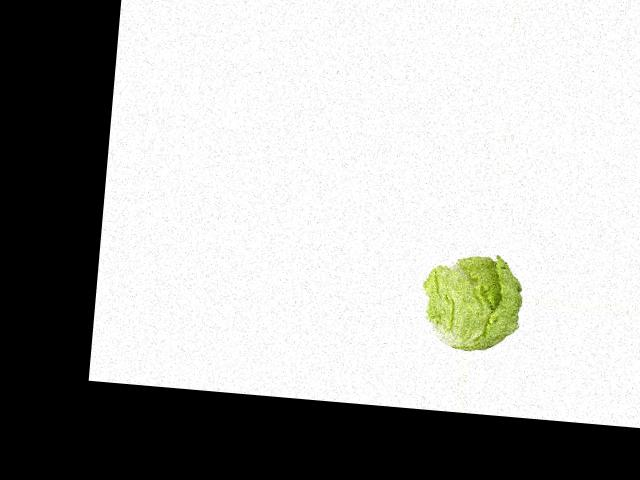lettuce: (421, 251, 525, 358)
